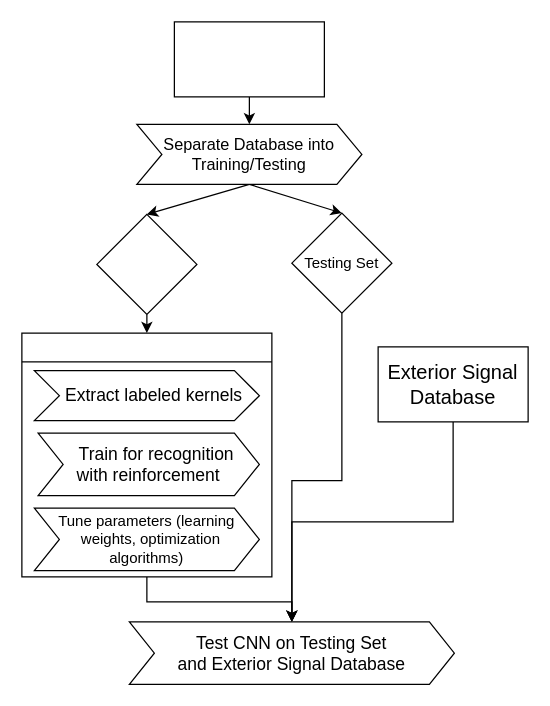
Image size: 550x706. Some labels were removed from this diagram. Each missing label, with the box of its shape:
CNN: (21, 332, 272, 577)
Labeled Signal Database: (173, 21, 324, 97)
Training Set: (96, 213, 197, 314)
